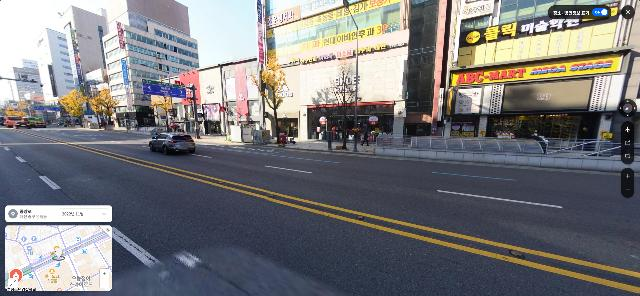ginkgo: (250, 48, 287, 145), (324, 51, 357, 150), (90, 86, 118, 130), (57, 88, 86, 129), (148, 96, 173, 133)
